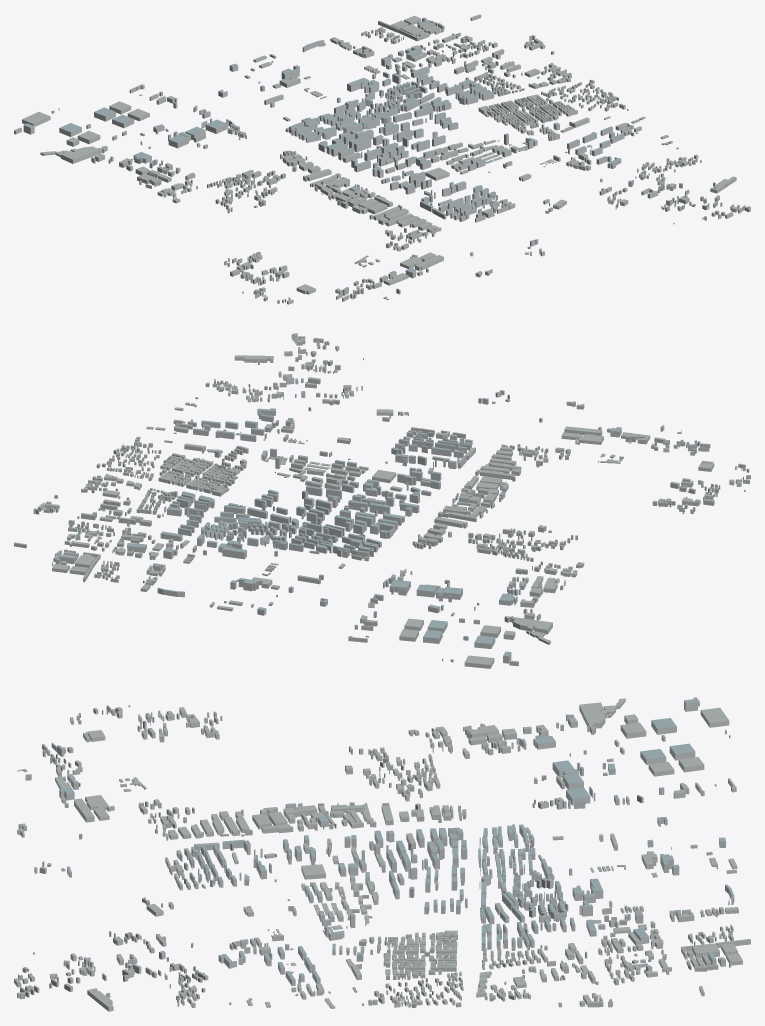
File: far.glb
3 views of the same model, one above another, from view 1: azimuth 30°, elevation 25°; view 2: azimuth 150°, elevation 25°; view 3: azimuth 270°, elevation 25° (orthographic). The views are drawn at different scales.
Size of the model in its own units: 2146 by 40.38 by 2150.
